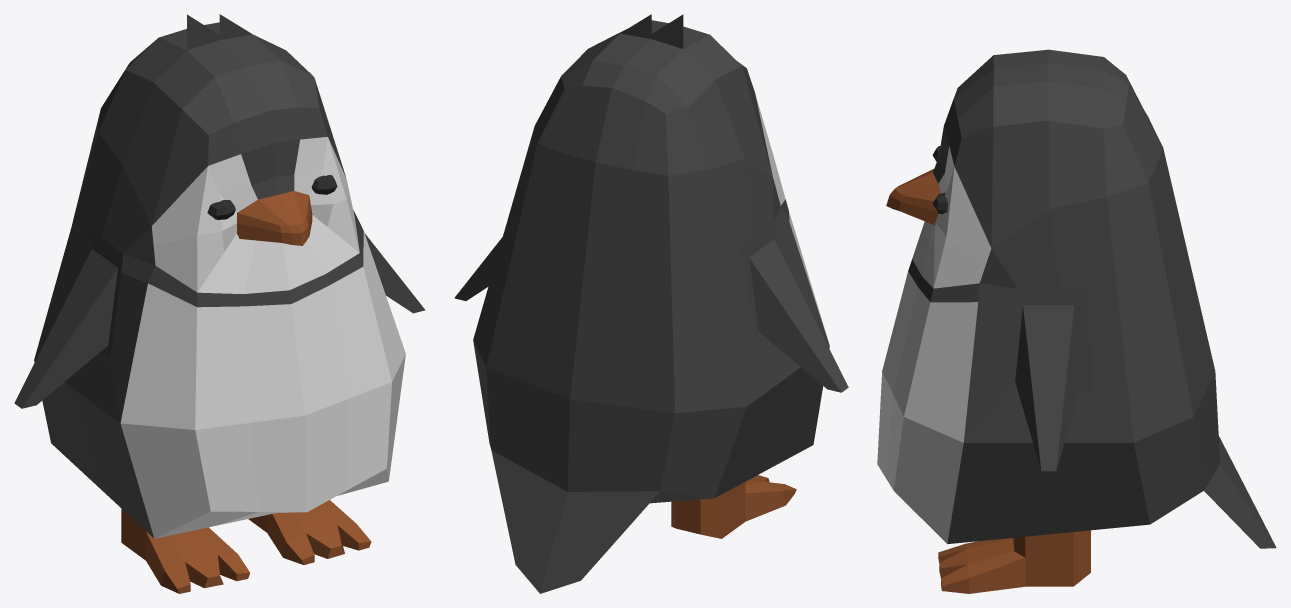
File: BabyPenguin.fbx
3 views of the same model, side by side, from view 1: azimuth 30°, elevation 25°; view 2: azimuth 150°, elevation 25°; view 3: azimuth 270°, elevation 25° (orthographic). The views are drawn at different scales.
Parts seen in each view (by area): view 1: Body, Leg, Eyes; view 2: Body, Leg; view 3: Body, Leg.
Boxes of the visible parts, box(x1,y1,x2,y2) form: Body: box(14, 14, 425, 538); Leg: box(121, 500, 371, 593); Eyes: box(207, 175, 337, 219); Body: box(454, 14, 848, 593); Leg: box(671, 475, 796, 538); Body: box(877, 49, 1276, 548); Leg: box(938, 530, 1090, 593).
Size of the model in its own units: 389 by 486 by 339.
